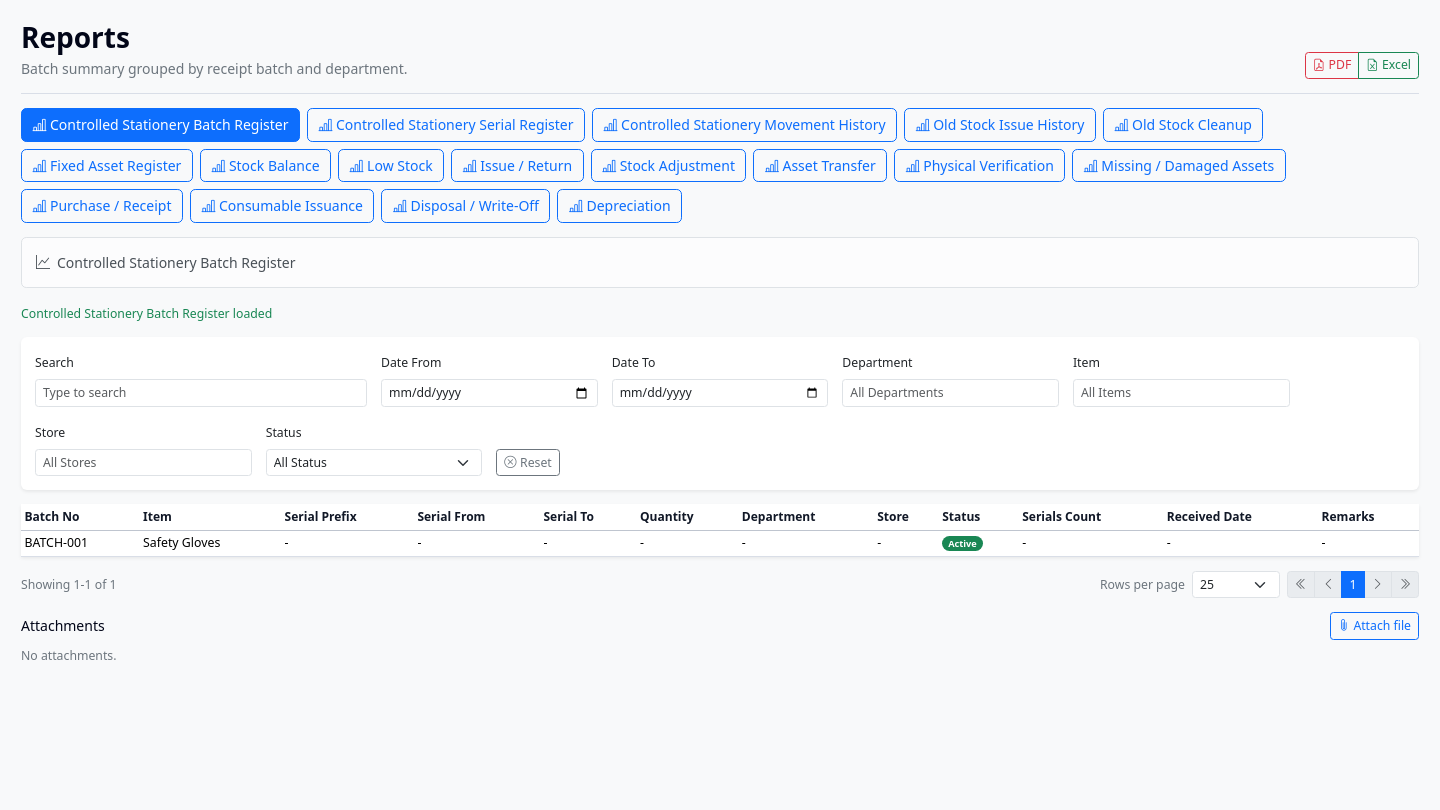
Test: ReportsPage export and filter flow › switches report endpoint when report type changes
The image size is (1440, 810).
Expected: the text "Safety Gloves" is shown, [140,530,281,556]
Click the button "Stock Balance".
click(266, 165)  # box [200,149,331,182]
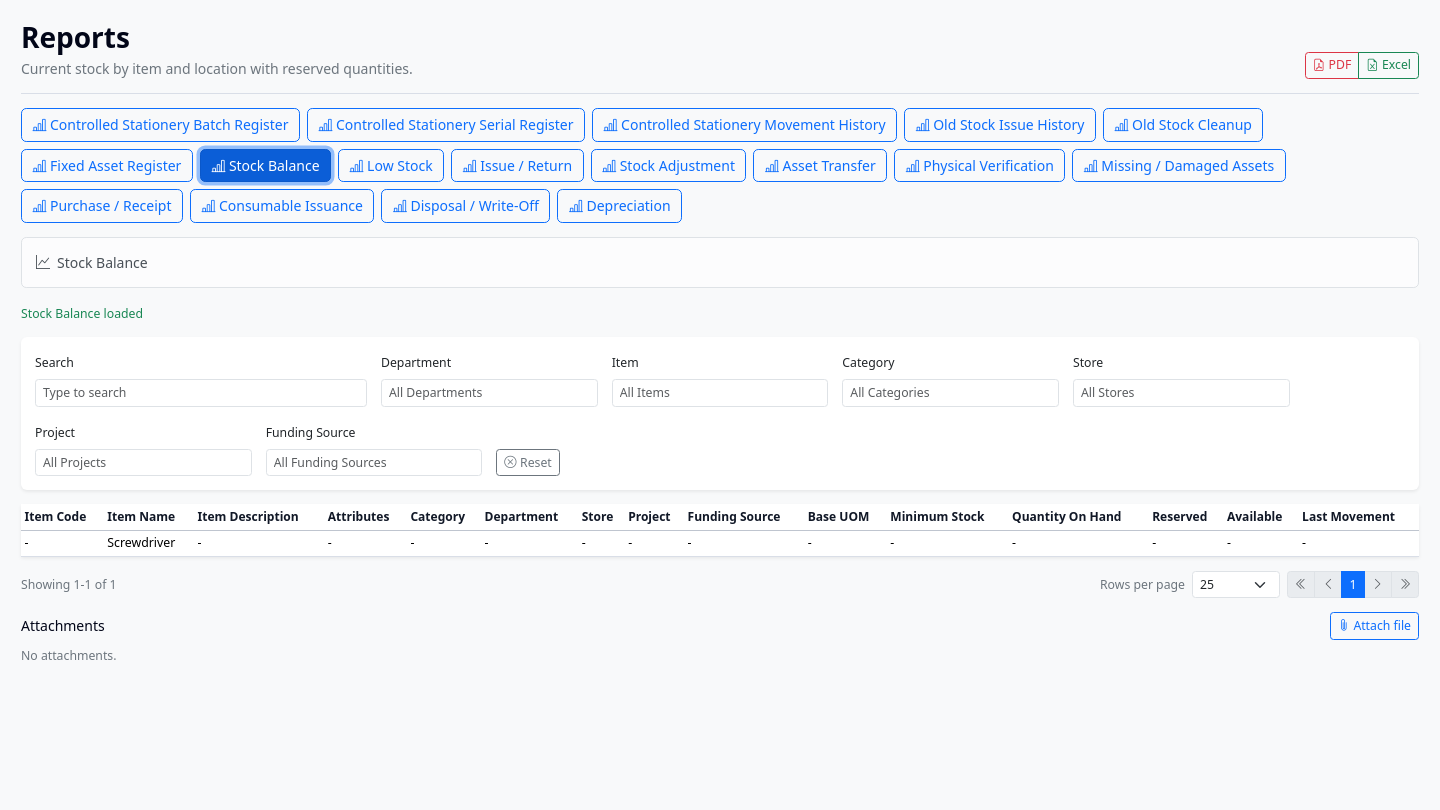
Now the text "Screwdriver" is shown, box [104,530,194,556]
